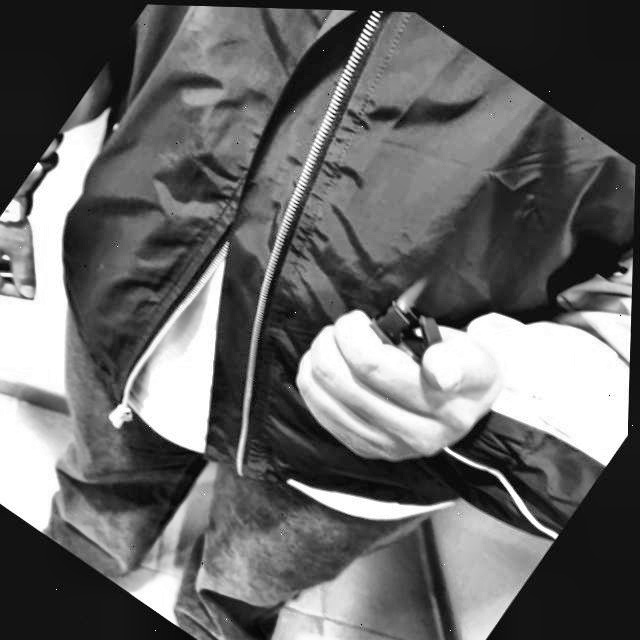Fire: (392, 269, 429, 313)
